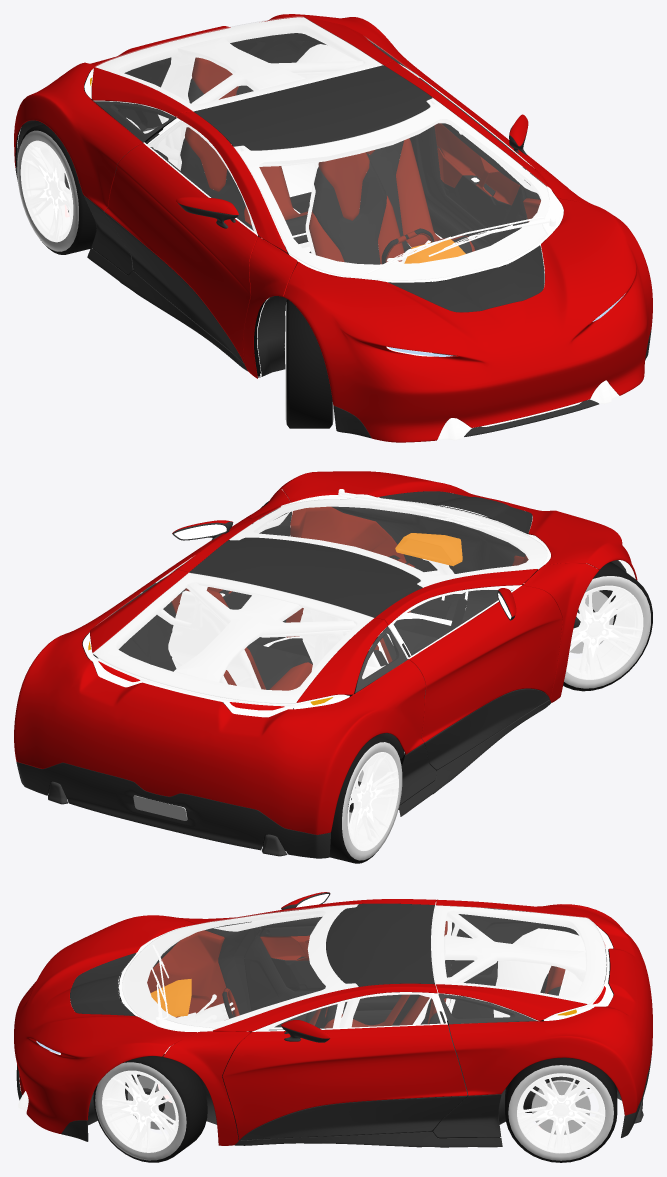
The model's file is atelier-car-v1.glb.
3 views of the same model, one above another, from view 1: azimuth 30°, elevation 25°; view 2: azimuth 150°, elevation 25°; view 3: azimuth 270°, elevation 25° (orthographic). The views are drawn at different scales.
Visible parts, largest first — view 1: BodyHood, BodyWindshield, BodyRearwindow, BodyDoorRColor1, BodyRearPanelsColor1, BodyRoofPanel, BodyWindshieldGasket, InteriorSeatsColor1, InteriorSeatsColor2, BodyPillars, InteriorPillar, InteriorRearHatch (+21 smaller); view 2: BodyRearPanelsColor1, BodyRearwindow, BodyWindshield, BodyDoorRColor1, BodyPanelsColor2, BodyRoofPanel, BodyHood, InteriorRearHatch, BodyPillars, InteriorPillar, BodyWindshieldGasket, InteriorDashMid (+22 smaller); view 3: BodyRearPanelsColor1, BodyWindshield, BodyDoorLColor1, BodyHood, BodyRearwindow, BodyRoofPanel, BodyPillars, BodyWindshieldGasket, BodyDoorLColor2, BodyPanelsColor2, WheelFrontL, InteriorRearHatch (+25 smaller).
Boxes of the visible parts, x1=… form: BodyHood: x1=283, y1=198, x2=652, y2=442; BodyWindshield: x1=234, y1=98, x2=549, y2=280; BodyRearwindow: x1=95, y1=16, x2=382, y2=110; BodyDoorRColor1: x1=104, y1=143, x2=257, y2=362; BodyRearPanelsColor1: x1=14, y1=14, x2=428, y2=210; BodyRoofPanel: x1=193, y1=65, x2=432, y2=150; BodyWindshieldGasket: x1=234, y1=99, x2=563, y2=282; InteriorSeatsColor1: x1=185, y1=57, x2=475, y2=264; InteriorSeatsColor2: x1=180, y1=78, x2=472, y2=264; BodyPillars: x1=176, y1=61, x2=598, y2=378; InteriorPillar: x1=158, y1=37, x2=434, y2=168; InteriorRearHatch: x1=93, y1=17, x2=383, y2=117; BodyRearPanelsColor1: x1=14, y1=569, x2=425, y2=834; BodyRearwindow: x1=92, y1=573, x2=373, y2=703; BodyWindshield: x1=229, y1=497, x2=547, y2=587; BodyDoorRColor1: x1=409, y1=585, x2=562, y2=742; BodyPanelsColor2: x1=16, y1=700, x2=550, y2=858; BodyRoofPanel: x1=189, y1=537, x2=422, y2=617; BodyHood: x1=279, y1=471, x2=637, y2=580; InteriorRearHatch: x1=93, y1=573, x2=386, y2=707; BodyPillars: x1=175, y1=489, x2=599, y2=702; InteriorPillar: x1=174, y1=574, x2=417, y2=682; BodyWindshieldGasket: x1=230, y1=497, x2=550, y2=587; InteriorDashMid: x1=331, y1=502, x2=528, y2=622; BodyRearPanelsColor1: x1=436, y1=899, x2=652, y2=1115; BodyWindshield: x1=122, y1=904, x2=357, y2=1028; BodyDoorLColor1: x1=222, y1=1024, x2=467, y2=1139; BodyHood: x1=14, y1=915, x2=196, y2=1133; BodyRearwindow: x1=432, y1=905, x2=606, y2=1003; BodyRoofPanel: x1=326, y1=903, x2=434, y2=986; BodyPillars: x1=163, y1=899, x2=437, y2=1145; BodyWindshieldGasket: x1=118, y1=905, x2=357, y2=1032; BodyDoorLColor2: x1=240, y1=1096, x2=467, y2=1140; BodyPanelsColor2: x1=16, y1=1050, x2=652, y2=1147; WheelFrontL: x1=93, y1=1054, x2=207, y2=1162; InteriorRearHatch: x1=431, y1=905, x2=606, y2=1020.
Size of the model in its own units: 2.54 by 1.15 by 4.36.
